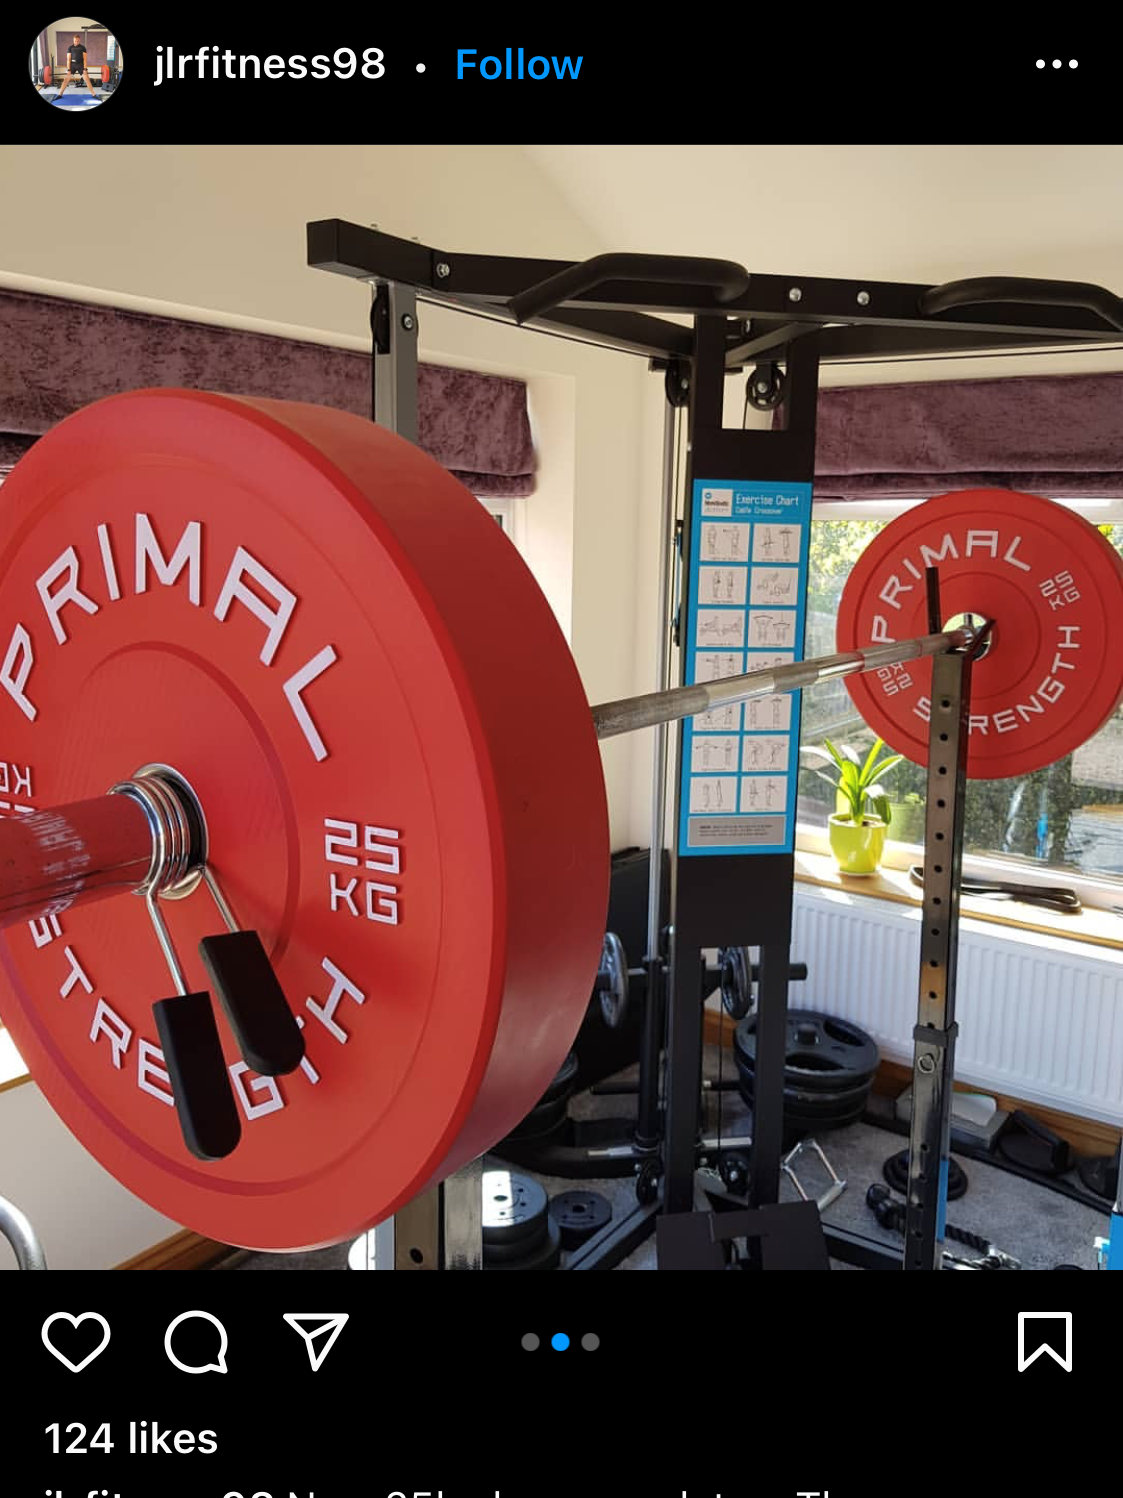weights: (1, 387, 611, 1256), (840, 485, 1121, 781)
